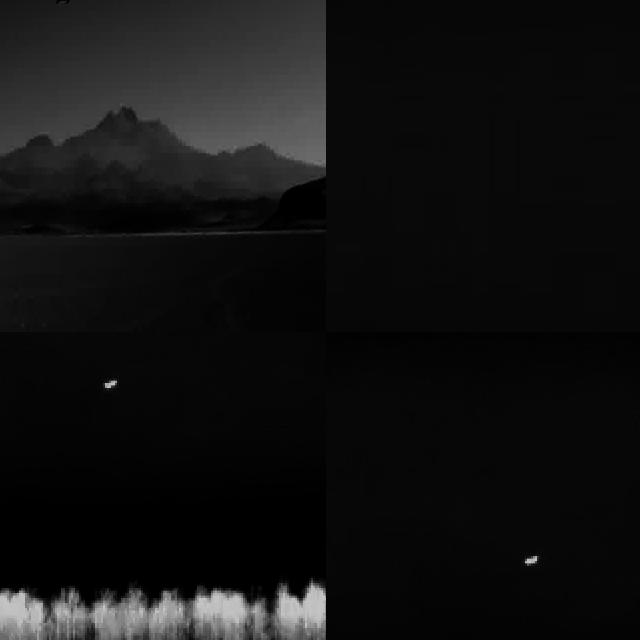1: (94, 372, 130, 402), (515, 548, 551, 578)
drone: (42, 0, 84, 11)
